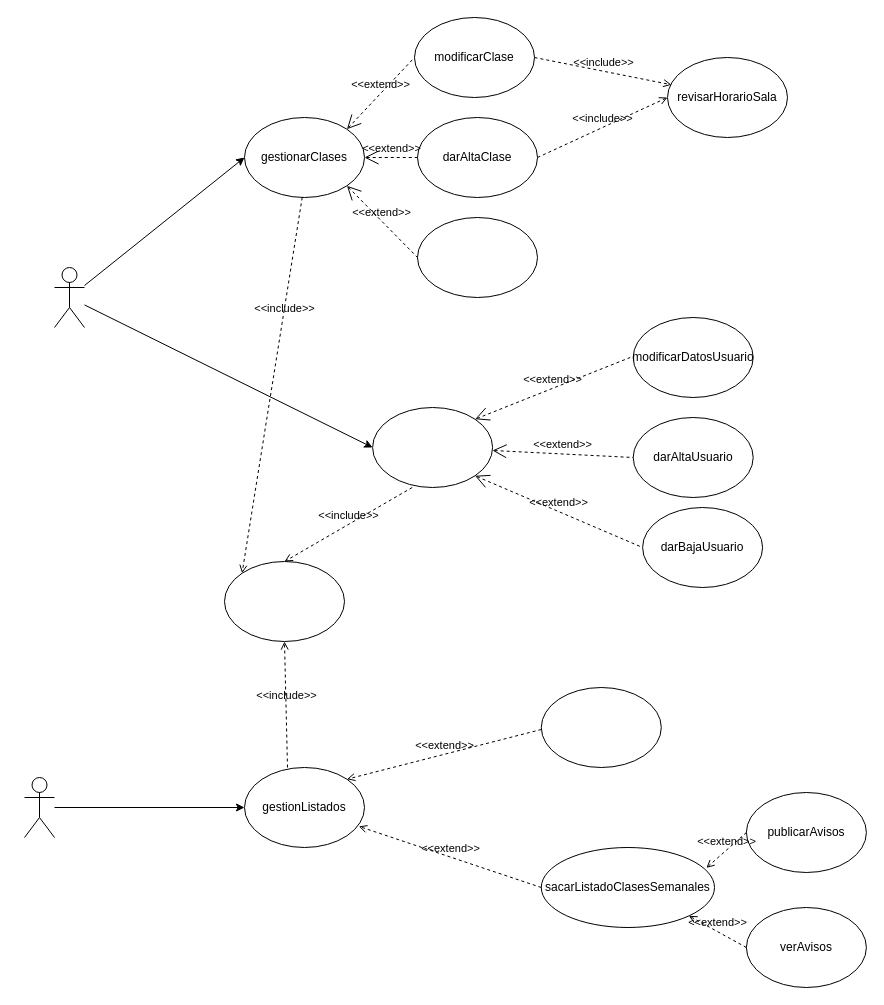
This 884x1005 diagram has some shape labels left out. Here are the shapes that lost their labels. From the top down, the centre of each, then its label:
pixel 477 257: eliminarClase
pixel 69 297: Administrativo
pixel 432 447: gestionUsuarios
pixel 284 601: iniciarSesion
pixel 600 727: sacarListadoAlumnos
pixel 39 807: Profesor
